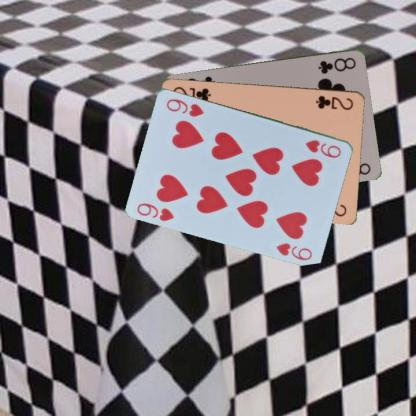2c: (313, 92, 355, 111)
8c: (315, 54, 358, 75)
9h: (135, 200, 176, 222), (302, 137, 342, 159)
